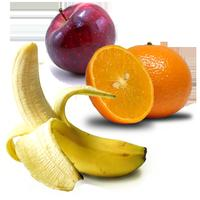apple: (42, 8, 123, 70)
banane: (1, 68, 131, 180)
orange: (81, 53, 194, 126)
